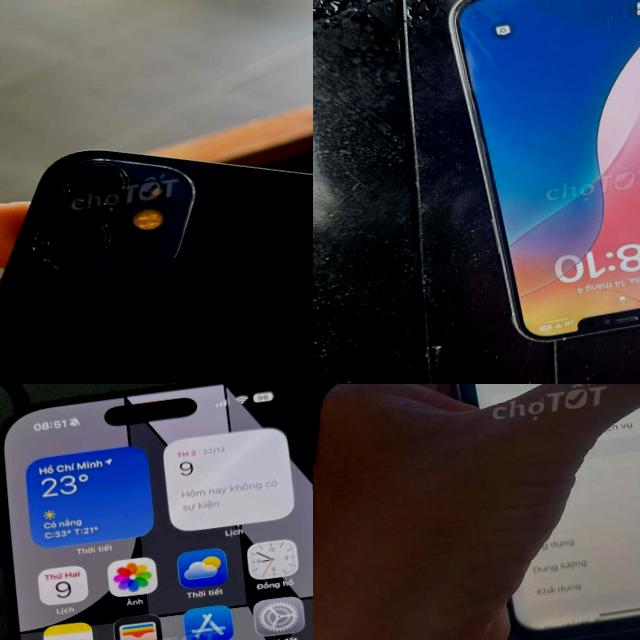gen_11: (422, 384, 640, 640)
gen_12_13: (0, 102, 313, 384), (440, 0, 640, 353)
gen_16: (0, 384, 313, 640)
